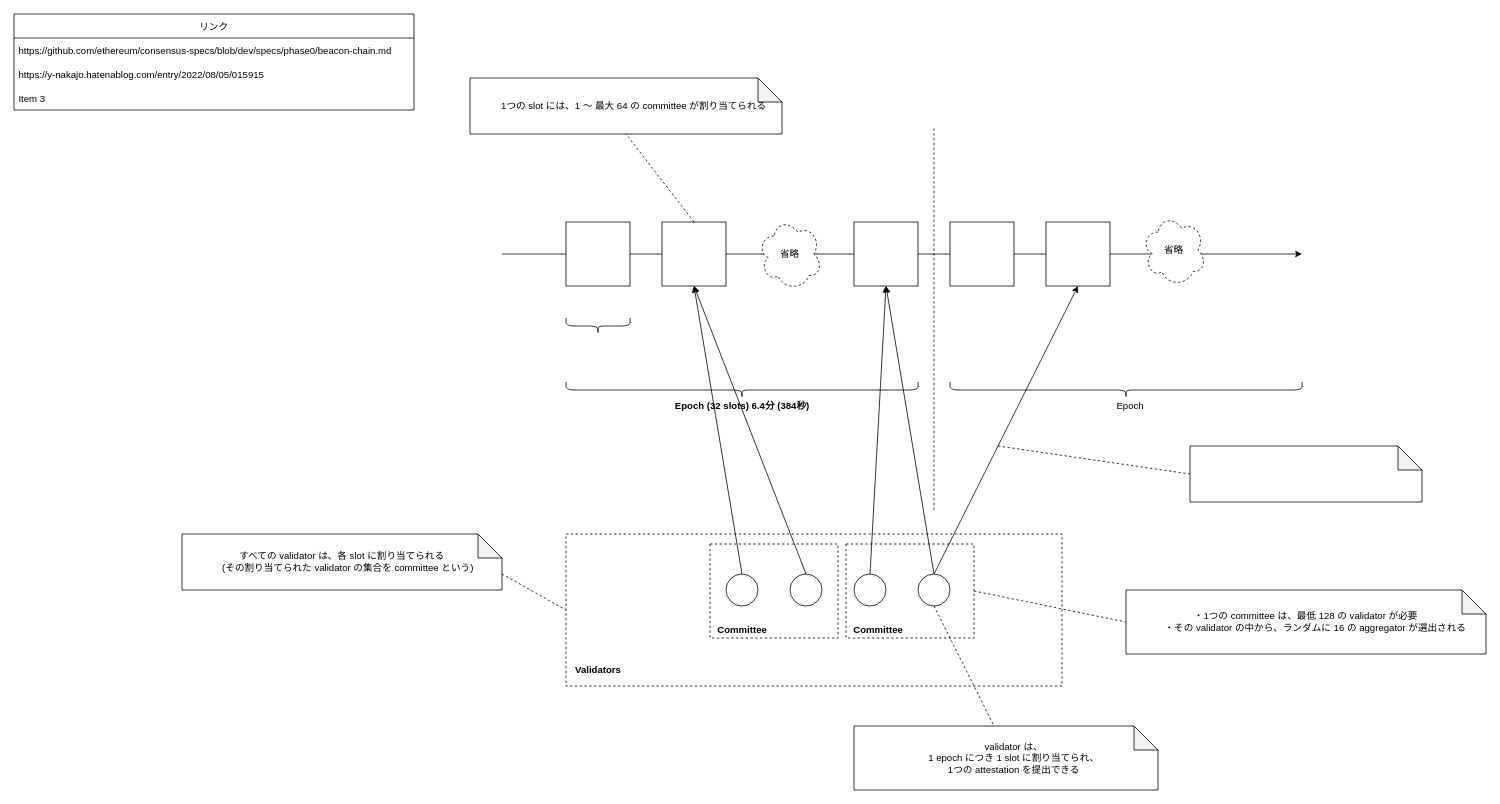
The diagram is 1500 pixels wide and 804 high, and some of its shapes have lost their labels. The centre of each missing label's shape, as x and y in pixels:
Slot (12秒): (597,325)
別の epoch の slot に割り当てられる: (1305,473)
